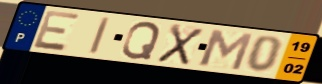0: (244, 34, 285, 74)
E: (31, 9, 83, 53)
I: (87, 15, 113, 56)
M: (197, 28, 255, 72)
Q: (120, 21, 163, 61)
X: (154, 22, 206, 67)
